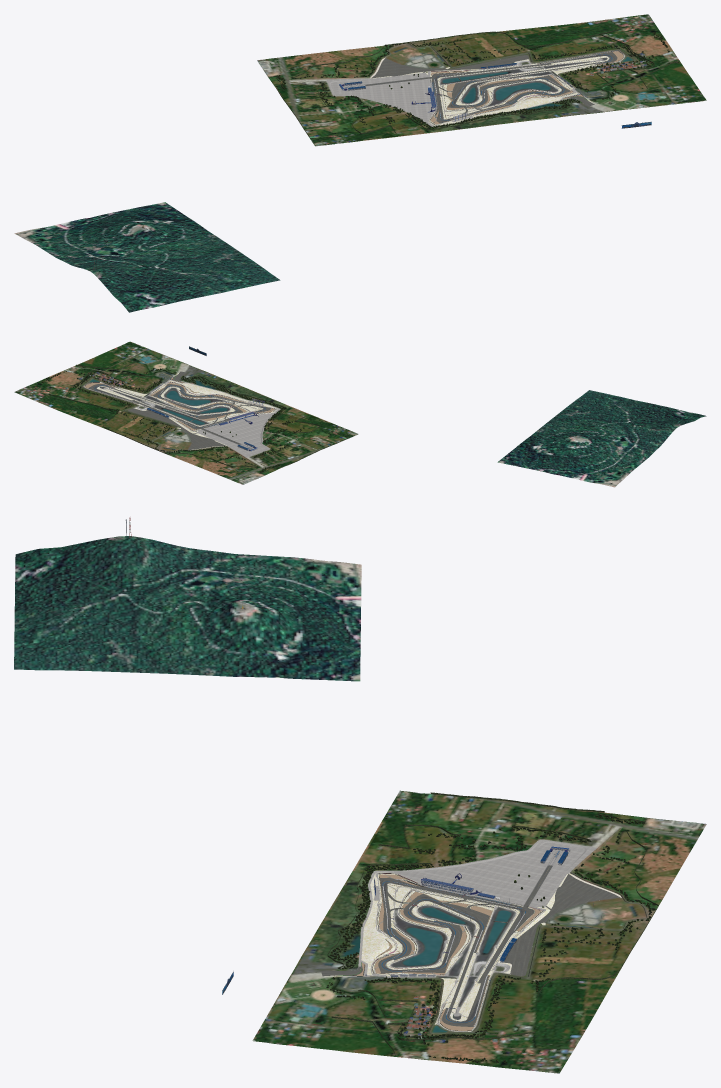
Rendered from chang.glb.
3 views of the same model, one above another, from view 1: azimuth 30°, elevation 25°; view 2: azimuth 150°, elevation 25°; view 3: azimuth 270°, elevation 25° (orthographic). The views are drawn at different scales.
Parts seen in each view (by area): view 1: 04 - Default_land_chunk0, Material #923_chunk0, Material #39_chunk0, Material #31_chunk0, 13 - Default_land_chunk0, Material #638_chunk0, 01 - Default_land_chunk0, Material #638_chunk1, 03 - Default_land_chunk0, Material #35_chunk0; view 2: 04 - Default_land_chunk0, Material #923_chunk0, Material #39_chunk0, Material #31_chunk0, 13 - Default_land_chunk0, 01 - Default_land_chunk0, Material #638_chunk0, Material #638_chunk1, 03 - Default_land_chunk0, Material #35_chunk0; view 3: 04 - Default_land_chunk0, Material #923_chunk0, Material #39_chunk0, Material #31_chunk0, 13 - Default_land_chunk0, Material #638_chunk1, Material #638_chunk0, 01 - Default_land_chunk0, Material #35_chunk0, 03 - Default_land_chunk0.
Boxes of the visible parts, <box> form: 04 - Default_land_chunk0: <box>257,14,706,146</box>; Material #923_chunk0: <box>14,202,280,312</box>; Material #39_chunk0: <box>326,51,624,126</box>; Material #31_chunk0: <box>365,51,617,123</box>; 13 - Default_land_chunk0: <box>370,54,624,125</box>; Material #638_chunk0: <box>377,30,669,101</box>; 01 - Default_land_chunk0: <box>276,28,679,136</box>; Material #638_chunk1: <box>276,60,579,129</box>; 03 - Default_land_chunk0: <box>431,51,623,124</box>; Material #35_chunk0: <box>442,57,632,102</box>; 04 - Default_land_chunk0: <box>14,341,358,484</box>; Material #923_chunk0: <box>497,390,706,487</box>; Material #39_chunk0: <box>83,379,280,457</box>; Material #31_chunk0: <box>88,371,271,449</box>; 13 - Default_land_chunk0: <box>84,372,277,450</box>; 01 - Default_land_chunk0: <box>49,362,347,473</box>; Material #638_chunk0: <box>39,368,236,453</box>; Material #638_chunk1: <box>181,375,304,472</box>; 03 - Default_land_chunk0: <box>84,378,274,430</box>; Material #35_chunk0: <box>90,379,227,424</box>; 04 - Default_land_chunk0: <box>252,790,706,1073</box>; Material #923_chunk0: <box>14,536,361,681</box>; Material #39_chunk0: <box>358,839,597,1031</box>; Material #31_chunk0: <box>321,865,619,1026</box>; 13 - Default_land_chunk0: <box>324,872,621,1031</box>; Material #638_chunk1: <box>329,814,644,969</box>; Material #638_chunk0: <box>326,874,655,1063</box>; 01 - Default_land_chunk0: <box>327,792,658,1056</box>; Material #35_chunk0: <box>402,907,511,1032</box>; 03 - Default_land_chunk0: <box>354,874,541,1030</box>.
Size of what is drawn, in the model's own units: 4595 by 242 by 2642.
48 materials, 48 textured.
